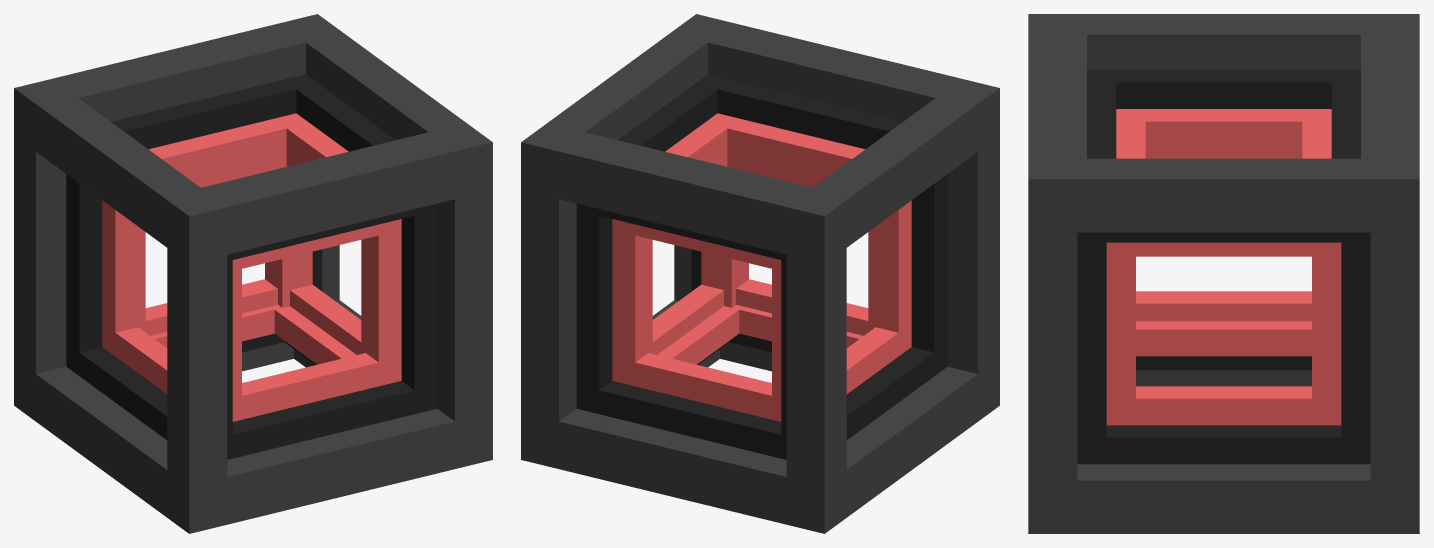
Rendered from TrapVaporOrange.FBX.
3 views of the same model, side by side, from view 1: azimuth 30°, elevation 25°; view 2: azimuth 150°, elevation 25°; view 3: azimuth 270°, elevation 25° (orthographic). The views are drawn at different scales.
Visible parts, largest first — view 1: TrapVaporOrange; view 2: TrapVaporOrange; view 3: TrapVaporOrange.
Part boxes in pixels (x1,y1,x2,y2): TrapVaporOrange: [14, 14, 492, 533]; TrapVaporOrange: [521, 14, 999, 533]; TrapVaporOrange: [1028, 14, 1419, 533].
Size of the model in its own units: 1 by 1 by 1.
Materials: 1 (1 with a texture image).
